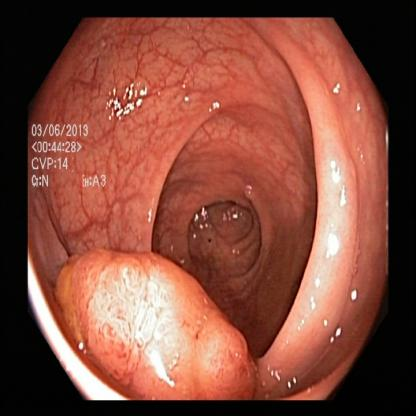Labels: (26, 115, 109, 192)
Polyps: (66, 258, 247, 398)
